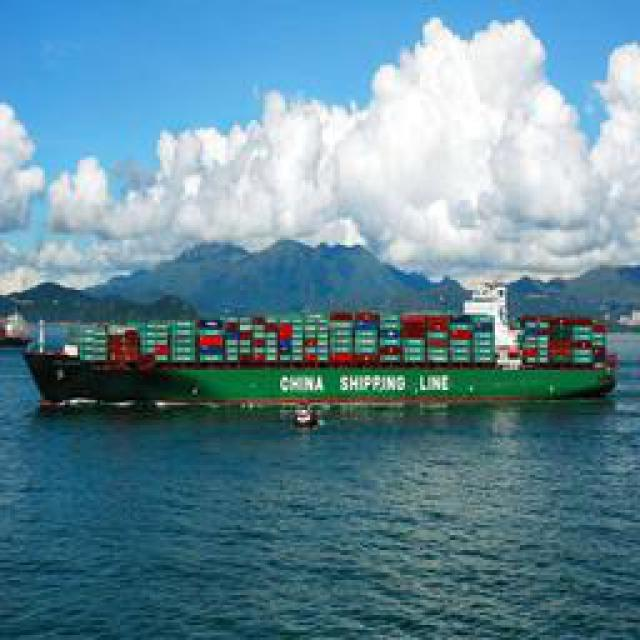Ship: (11, 322, 626, 412)
